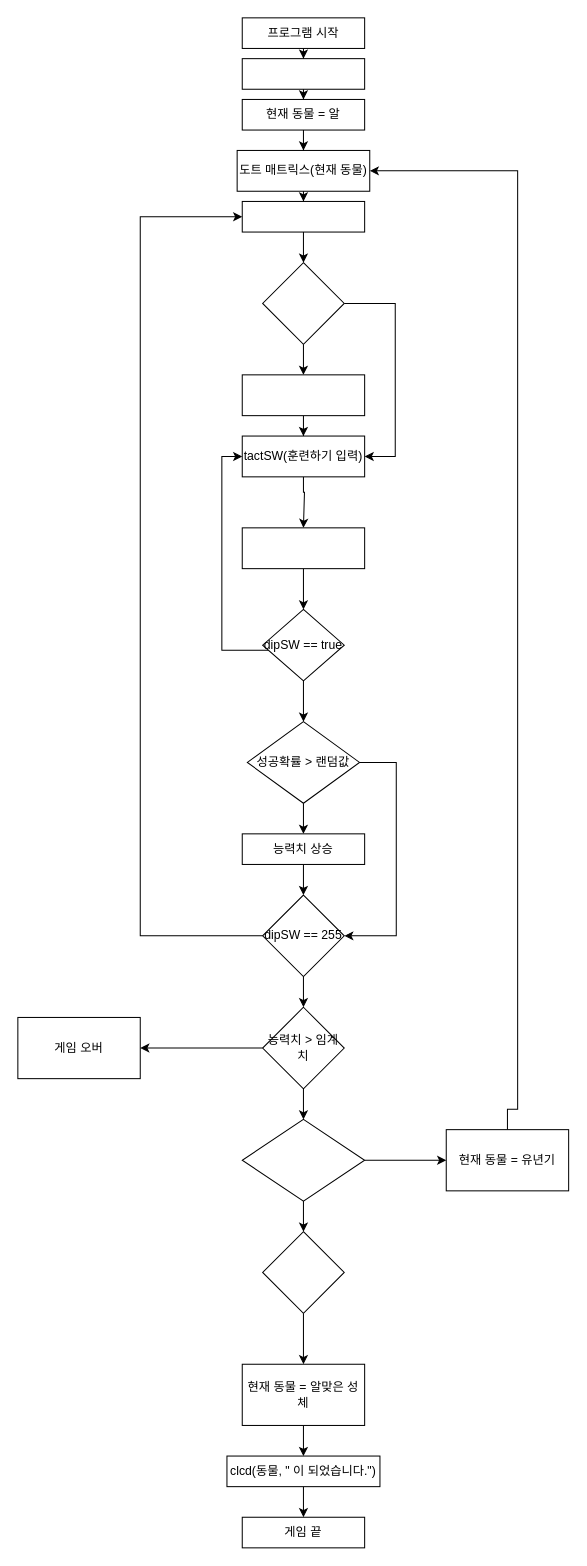
The diagram is 587 pixels wide and 1566 high, and some of its shapes have lost their labels. Here are the shapes that lost their labels. From the top down, the centre of each, then its label:
(303,73): clcd ("press any key")
(303,216): clcd(돌봐주기 요구 사항)
(303,303): tact SW(돌봐주기 입력)
(303,395): 성공확률 += 10
(303,548): 성공확률 -= 10
(303,1159): 현재 동물 == 유년기
(303,1272): case 문으로 알맞은 동물 찾기
